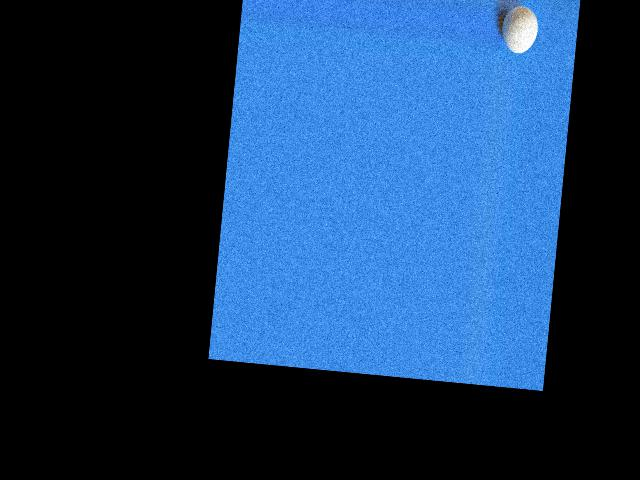egg: (499, 3, 539, 55)
